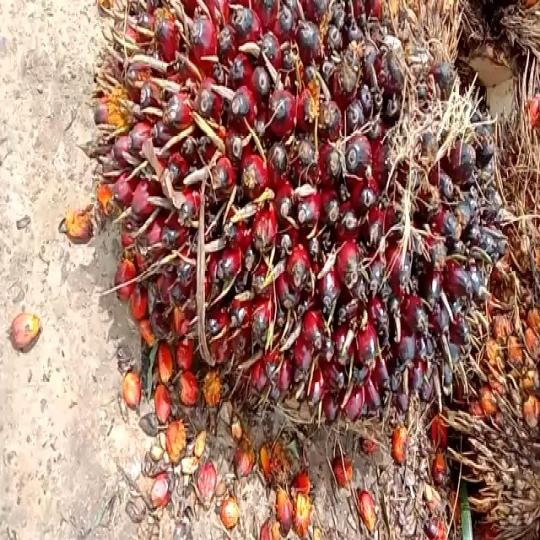kurang masak: (92, 0, 504, 459)
